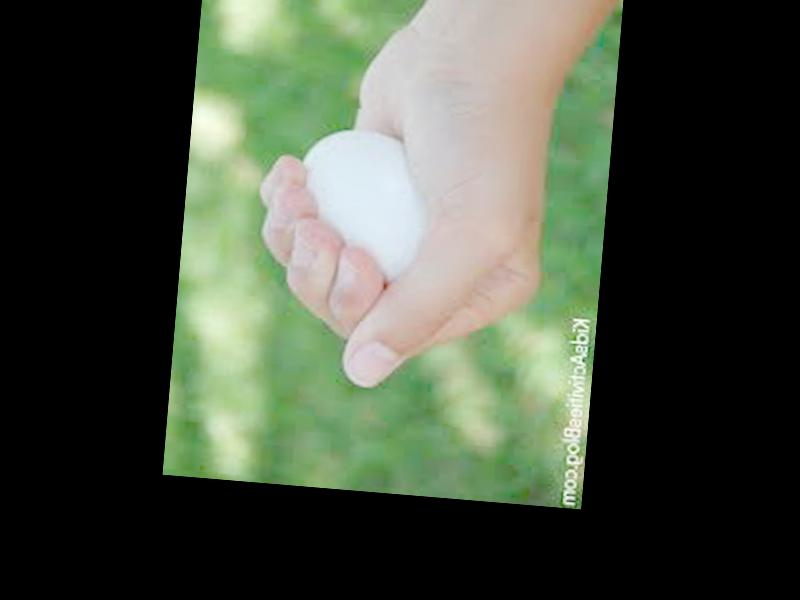Eggs: (292, 127, 432, 285)
